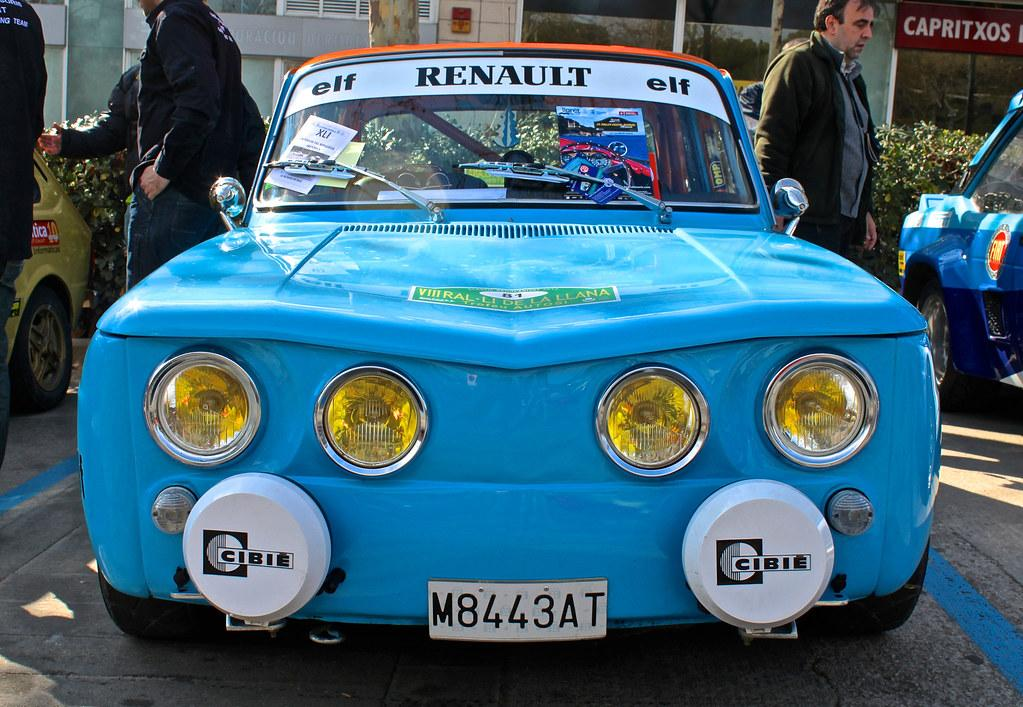car: (76, 42, 943, 648), (897, 89, 1023, 406), (2, 143, 96, 414)
